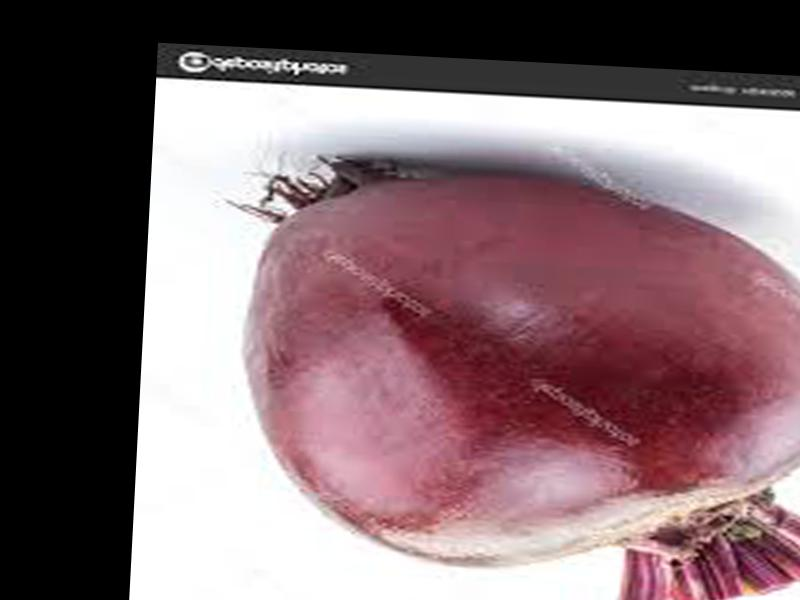Beet: (233, 159, 800, 600)
